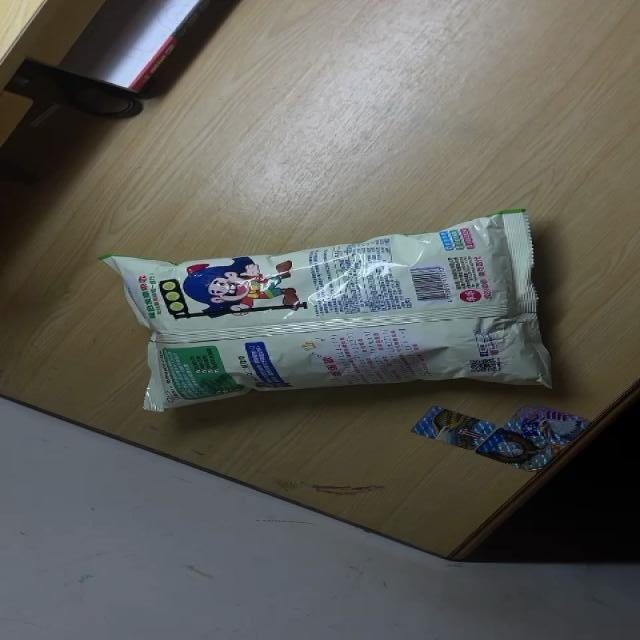Good-Luck: (101, 208, 546, 413)
